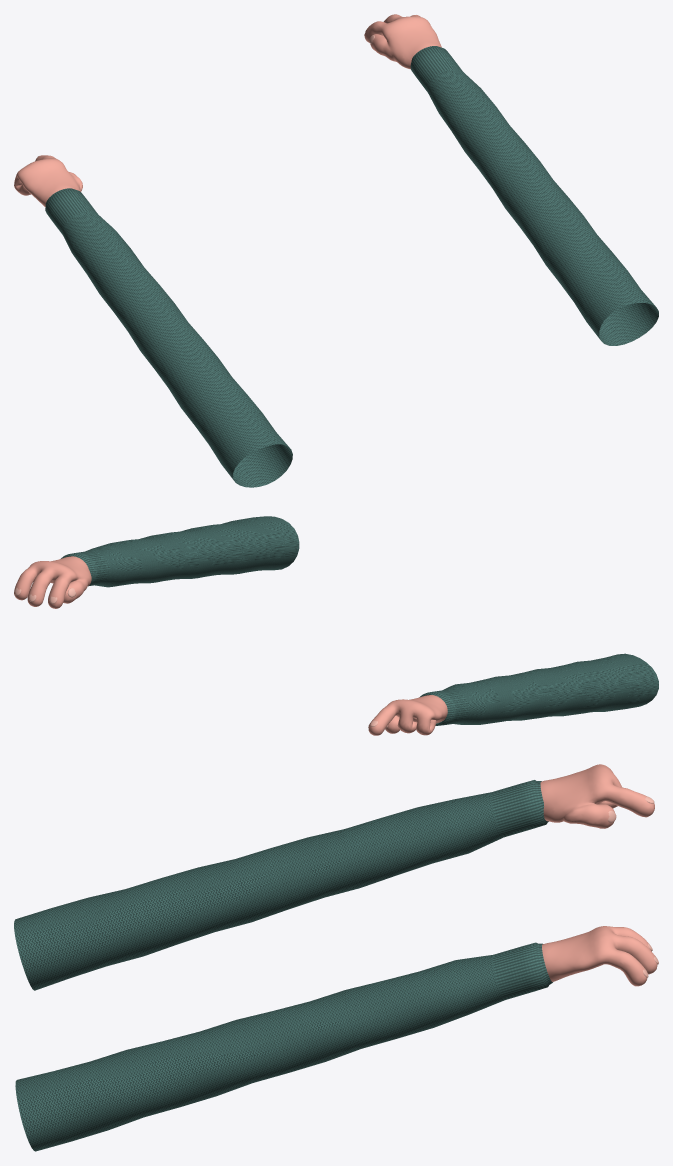
Rendered from sheet_teal.glb.
3 views of the same model, one above another, from view 1: azimuth 30°, elevation 25°; view 2: azimuth 150°, elevation 25°; view 3: azimuth 270°, elevation 25° (orthographic). The views are drawn at different scales.
Parts seen in each view (by area): view 1: L_Sleeve_teal, R_Sleeve_teal, R_Hand, L_Hand; view 2: L_Sleeve_teal, R_Sleeve_teal, R_Hand, L_Hand; view 3: R_Sleeve_teal, L_Sleeve_teal, L_Hand, R_Hand.
Boxes of the visible parts, box(x1,y1,x2,y2) form: L_Sleeve_teal: box(45, 188, 292, 487); R_Sleeve_teal: box(410, 46, 658, 345); R_Hand: box(364, 14, 441, 69); L_Hand: box(14, 155, 82, 206); L_Sleeve_teal: box(419, 653, 658, 725); R_Sleeve_teal: box(61, 516, 299, 587); R_Hand: box(14, 556, 91, 608); L_Hand: box(368, 695, 447, 735); R_Sleeve_teal: box(15, 942, 552, 1151); L_Sleeve_teal: box(14, 780, 548, 990); L_Hand: box(540, 764, 654, 828); R_Hand: box(542, 926, 657, 986).
Bounding box in the file's own units: 0.9225 × 0.452 × 0.9336.
Materials: 4 (2 with a texture image).
